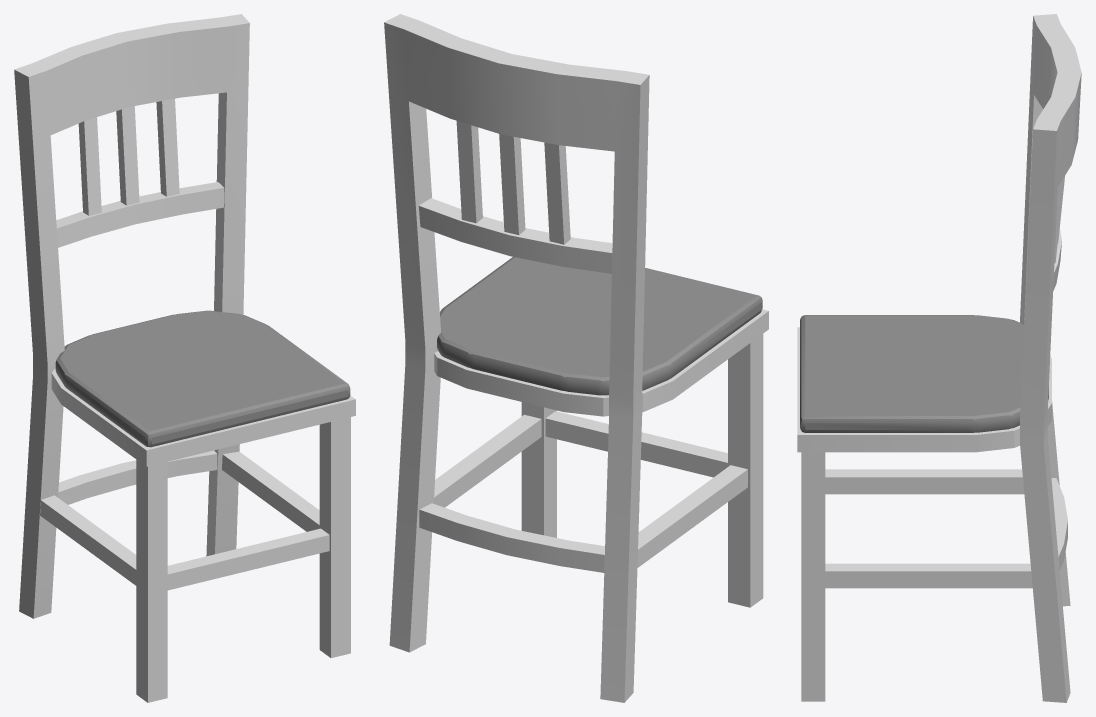
The model's file is Chair_05_C1.fbx.
3 renders of one model, left to right at view 1: azimuth 30°, elevation 25°; view 2: azimuth 150°, elevation 25°; view 3: azimuth 270°, elevation 25°, orthographic. The views are drawn at different scales.
Parts seen in each view (by area): view 1: Chair_05_C1; view 2: Chair_05_C1; view 3: Chair_05_C1.
Part boxes in pixels (box(x1,y1,x2,y2)): Chair_05_C1: box(14, 14, 355, 702); Chair_05_C1: box(384, 14, 768, 702); Chair_05_C1: box(797, 14, 1081, 702).
Bounding box in the file's own units: 43.51 × 100 × 44.67.
